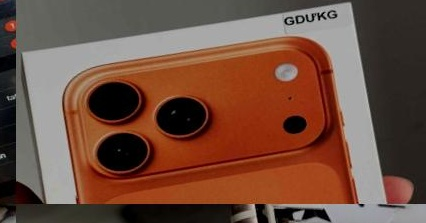physical_damage: (220, 204, 314, 223), (266, 204, 357, 223)
